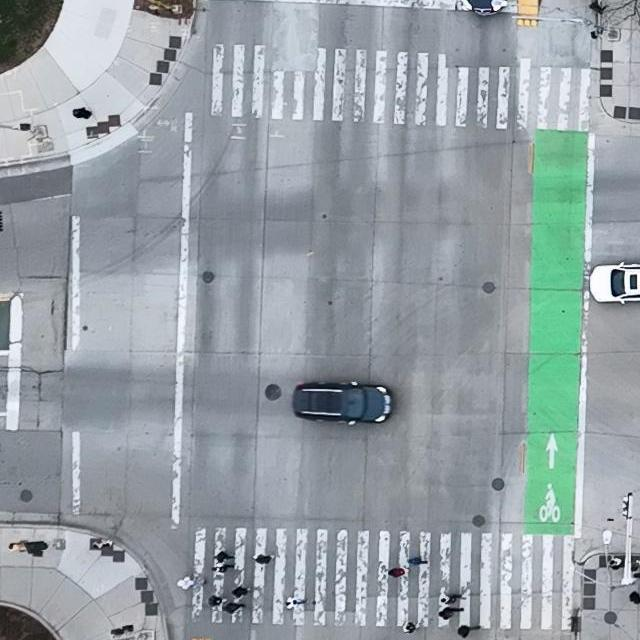car: (292, 381, 393, 426), (589, 261, 640, 306)
